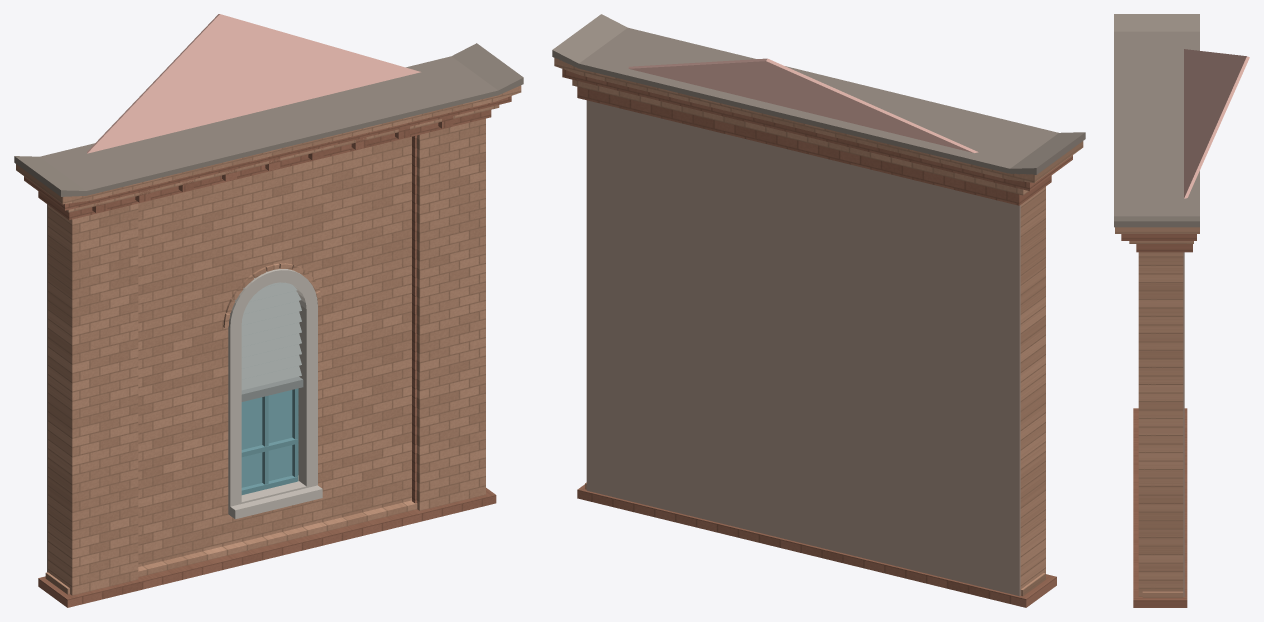
Rendered from water-tower-crown-far.glb.
3 renders of one model, left to right at view 1: azimuth 30°, elevation 25°; view 2: azimuth 150°, elevation 25°; view 3: azimuth 270°, elevation 25°, orthographic. The views are drawn at different scales.
Visible parts, largest first — view 1: 美童公学水塔顶层砖券窗与挑檐; view 2: 美童公学水塔顶层砖券窗与挑檐; view 3: 美童公学水塔顶层砖券窗与挑檐.
Boxes of the visible parts, box(x1,y1,x2,y2) form: 美童公学水塔顶层砖券窗与挑檐: box(14, 14, 523, 607); 美童公学水塔顶层砖券窗与挑檐: box(552, 14, 1085, 607); 美童公学水塔顶层砖券窗与挑檐: box(1114, 14, 1249, 607).
Size of the model in its own units: 4.92 by 5.05 by 1.36.
Materials: 10 (2 with a texture image).
